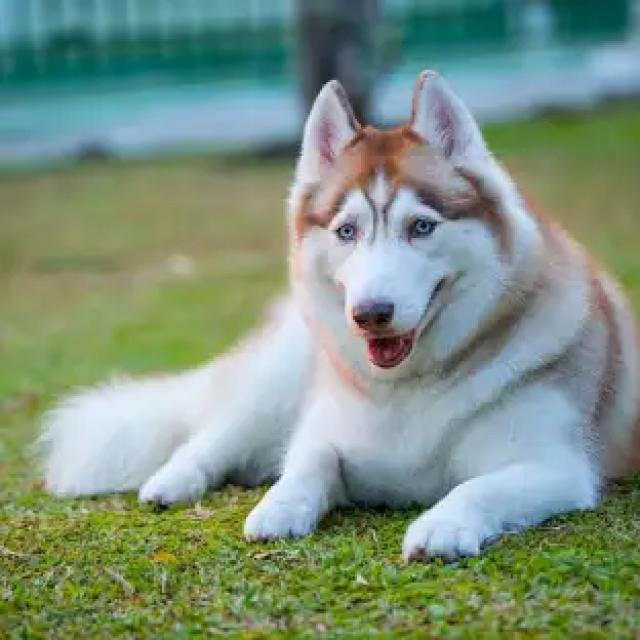dog: (36, 72, 640, 560)
